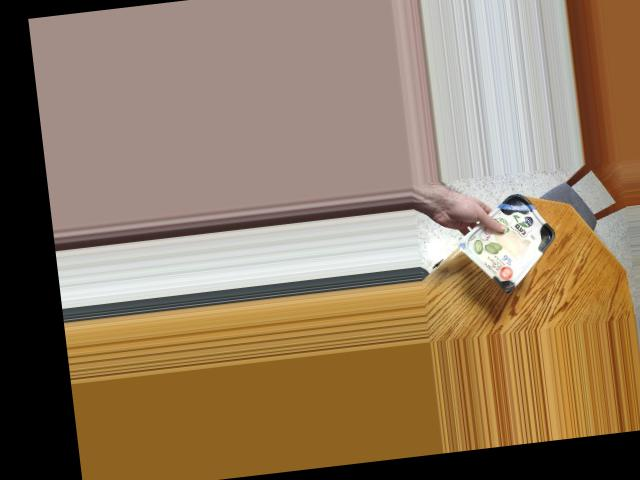cheese: (470, 197, 560, 284)
